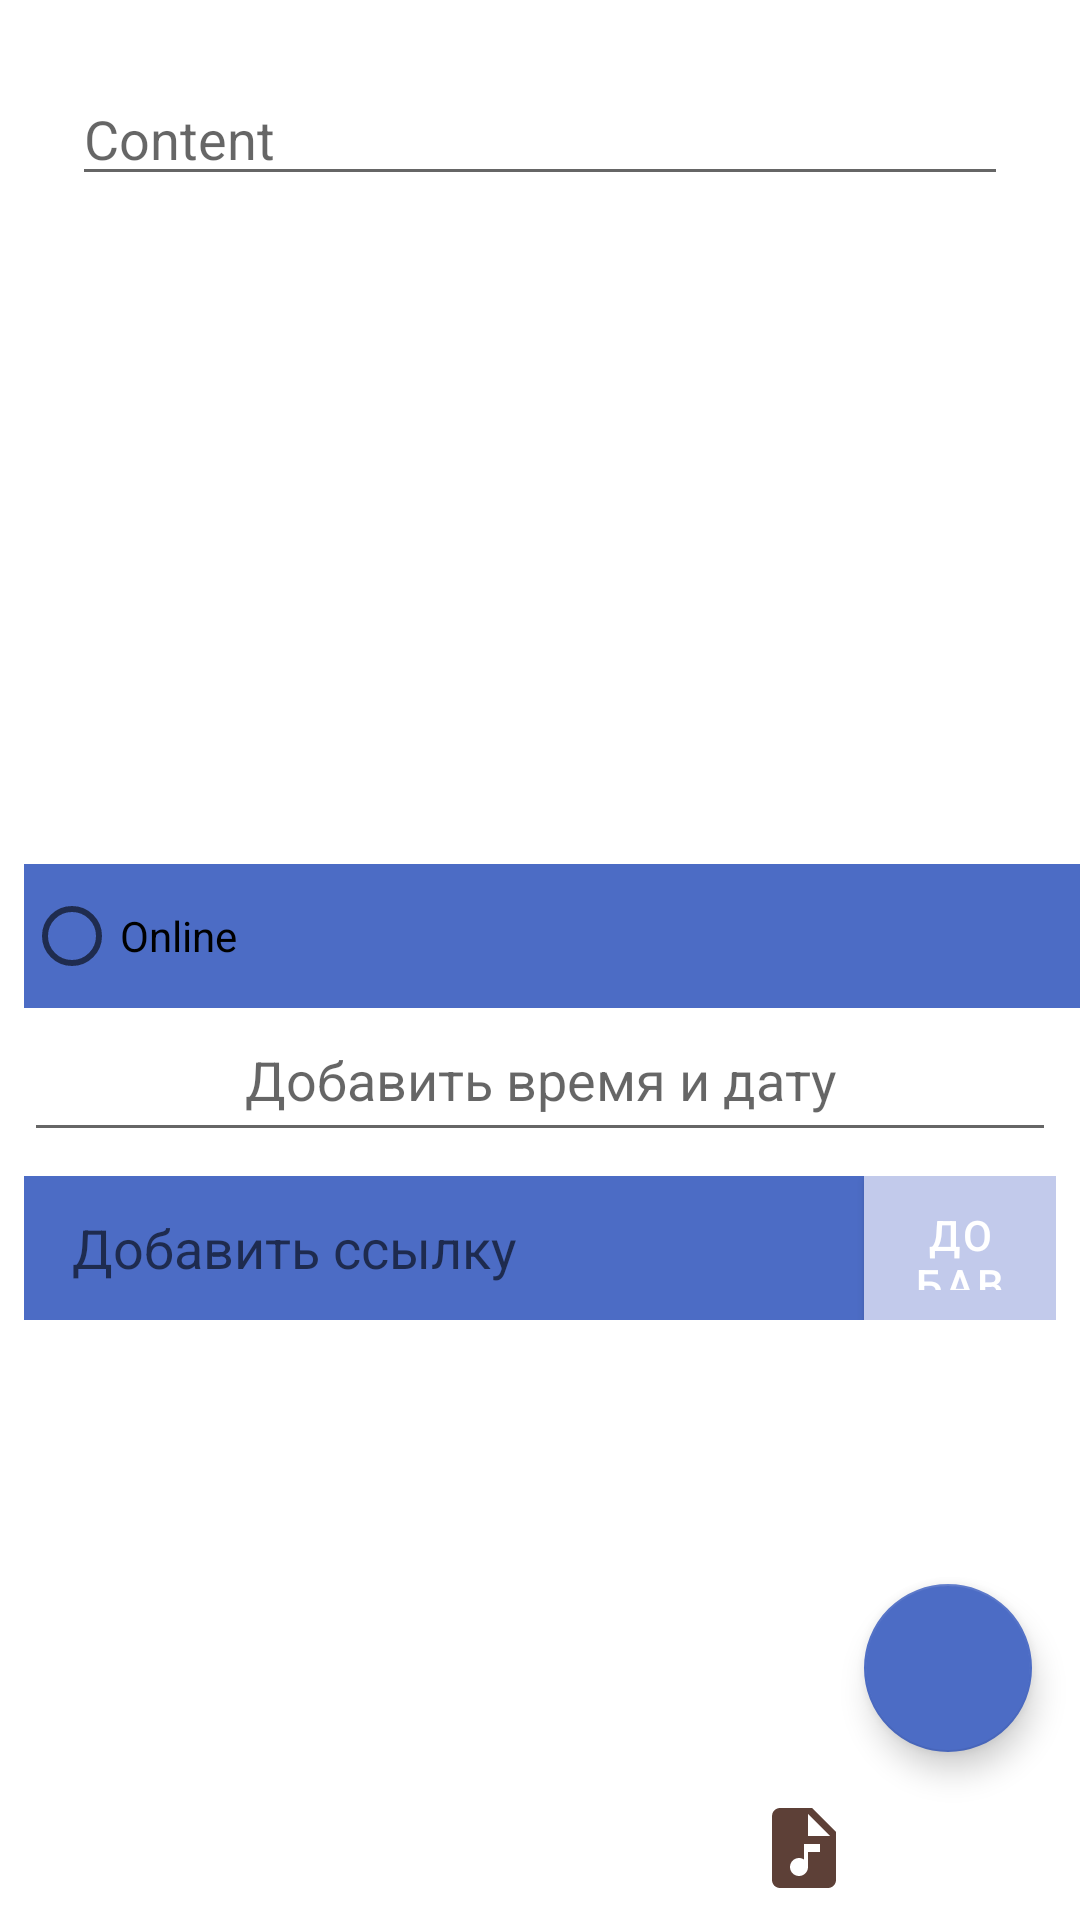

Point at icon controls on the screen. Image size 1080w x 1920h, points as point (x, y).
Добавить аудио: point (804, 1848)
